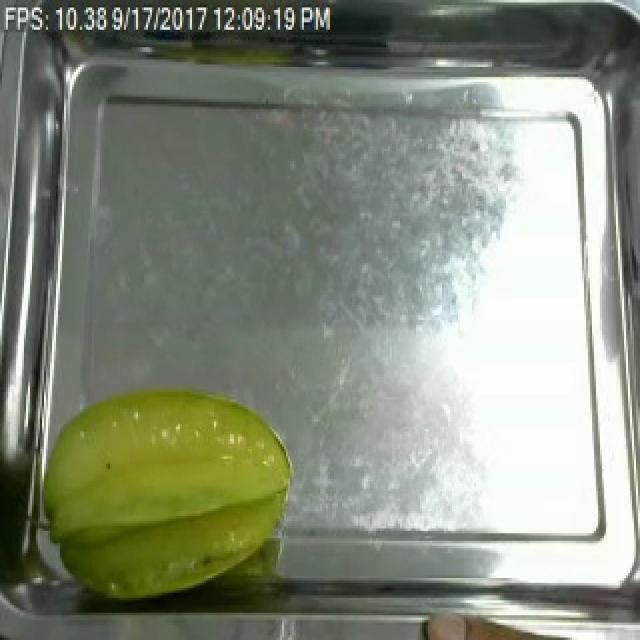fruit: (22, 374, 300, 612)
